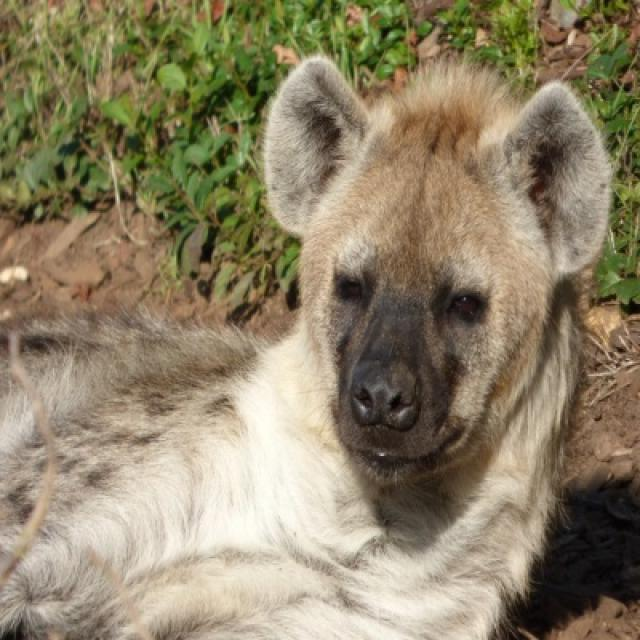hyena: (0, 54, 637, 638)
